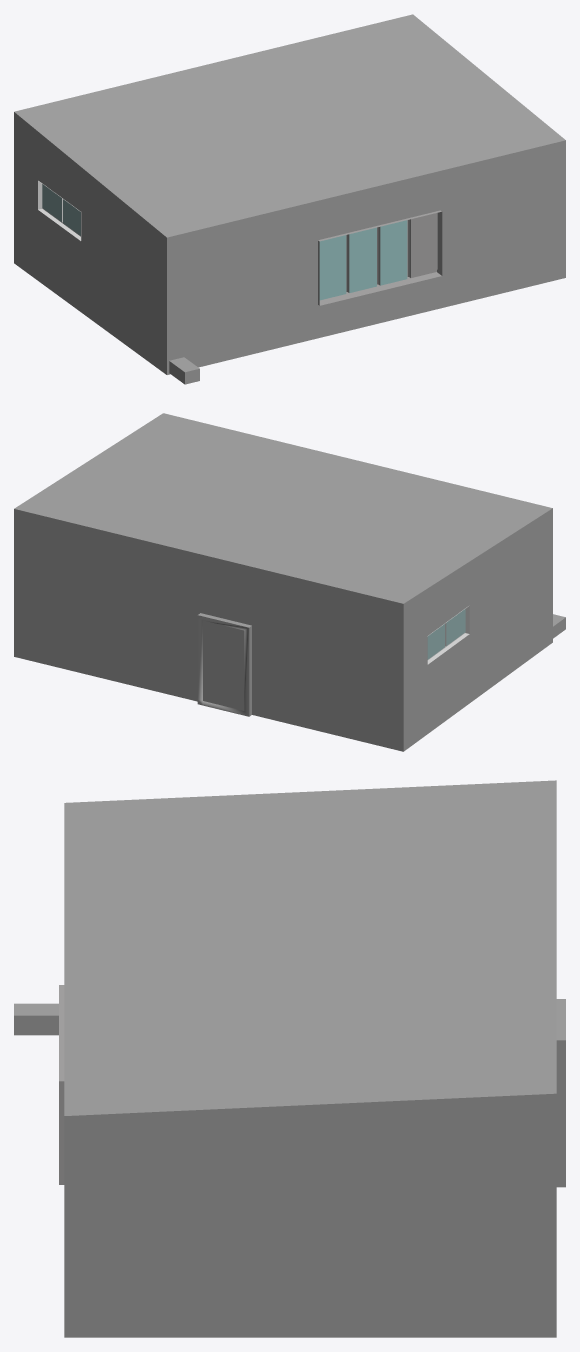
The model's file is Level01.fbx.
3 renders of one model, top to bottom at view 1: azimuth 30°, elevation 25°; view 2: azimuth 150°, elevation 25°; view 3: azimuth 270°, elevation 25°, orthographic. The views are drawn at different scales.
Parts seen in each view (by area): view 1: Level01, Window, SmalWindow; view 2: Level01, Door, DoorFrame, SmalWindow; view 3: Level01, DoorFrame, Window.
Part boxes in pixels (left/top/right/bottom): Level01: left=14, top=14, right=565, bottom=384; Window: left=318, top=210, right=442, bottom=305; SmalWindow: left=38, top=180, right=81, bottom=240; Level01: left=14, top=413, right=565, bottom=751; Door: left=203, top=620, right=244, bottom=710; DoorFrame: left=197, top=613, right=251, bottom=716; SmalWindow: left=427, top=605, right=469, bottom=664; Level01: left=14, top=780, right=556, bottom=1337; DoorFrame: left=556, top=999, right=565, bottom=1187; Window: left=59, top=985, right=64, bottom=1184.
Bounding box in the file's own units: 2672 × 969 × 1988.
